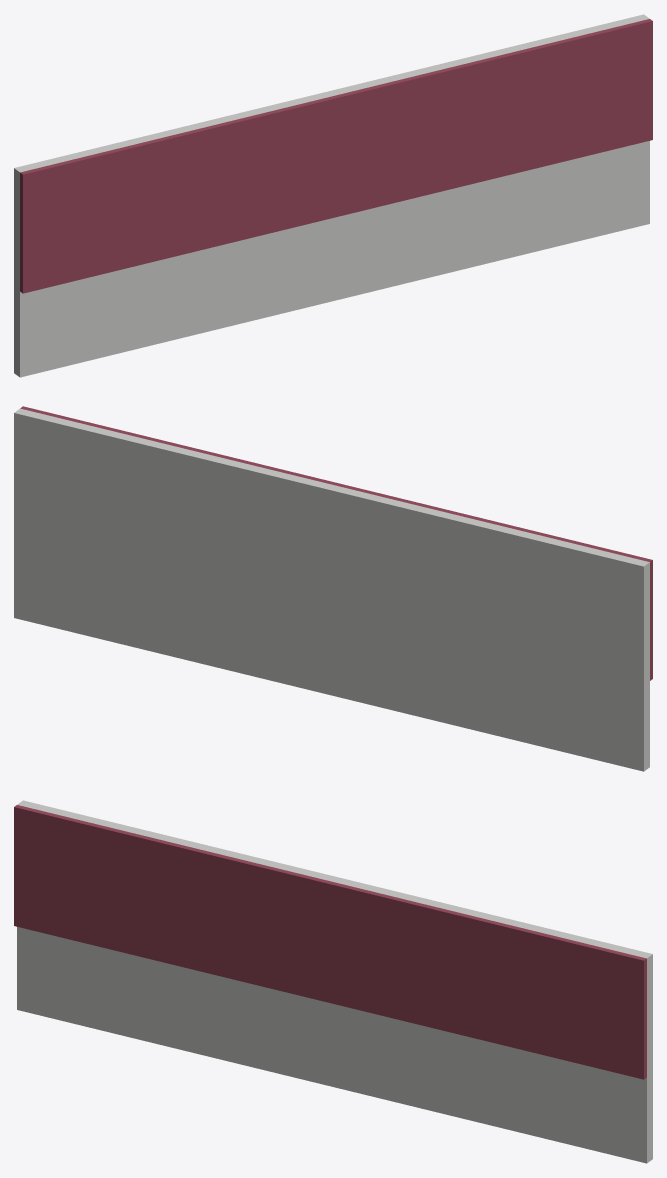
File: placa_casa_cultura.glb
3 renders of one model, top to bottom at view 1: azimuth 30°, elevation 25°; view 2: azimuth 150°, elevation 25°; view 3: azimuth 330°, elevation 25°, orthographic.
Parts seen in each view (by area): view 1: Malha_0; view 2: Malha_0; view 3: Malha_0.
Boxes of the visible parts, x1,y1,x2,y2 form: Malha_0: [14, 14, 652, 377]; Malha_0: [14, 406, 652, 771]; Malha_0: [14, 800, 652, 1163].
Bounding box in the file's own units: 1.8 × 0.56 × 0.045.
